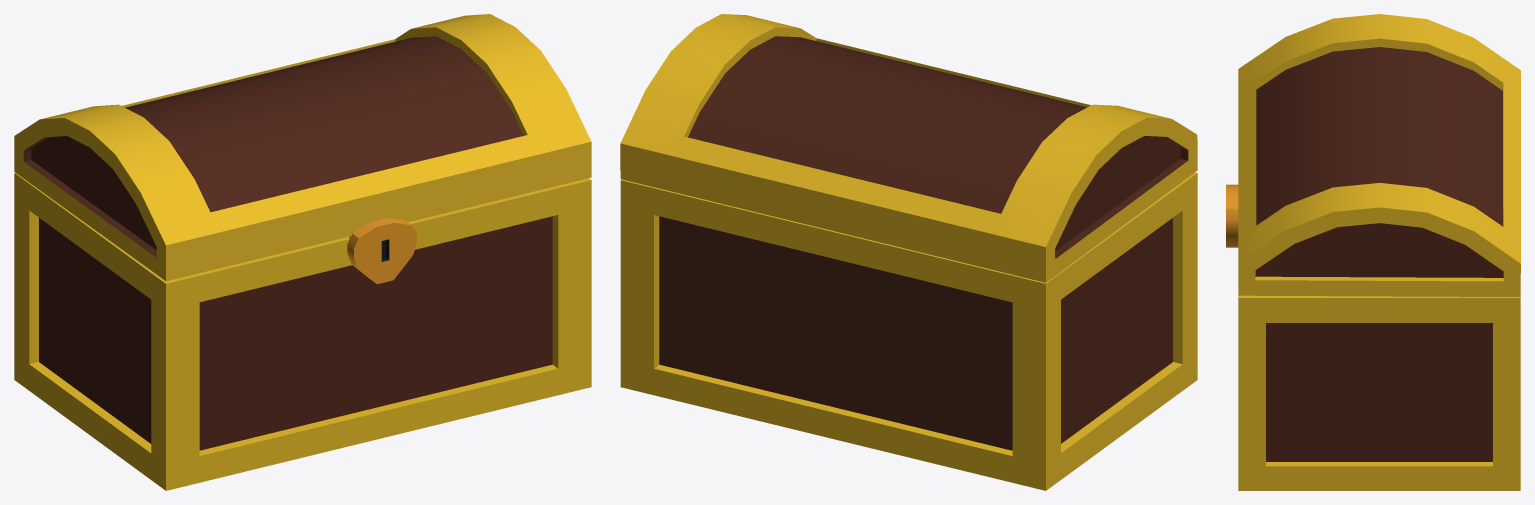
Rendered from chest.fbx.
The picture shows the model from 3 angles, left to right: view 1: azimuth 30°, elevation 25°; view 2: azimuth 150°, elevation 25°; view 3: azimuth 270°, elevation 25°; orthographic projection. The views are drawn at different scales.
Visible parts, largest first — view 1: chest; view 2: chest; view 3: chest.
Boxes of the visible parts, x1,y1,x2,y2 form: chest: (14, 14, 591, 490); chest: (620, 14, 1197, 490); chest: (1226, 14, 1520, 490).
Bounding box in the file's own units: 94.82 × 64.81 × 61.06.
